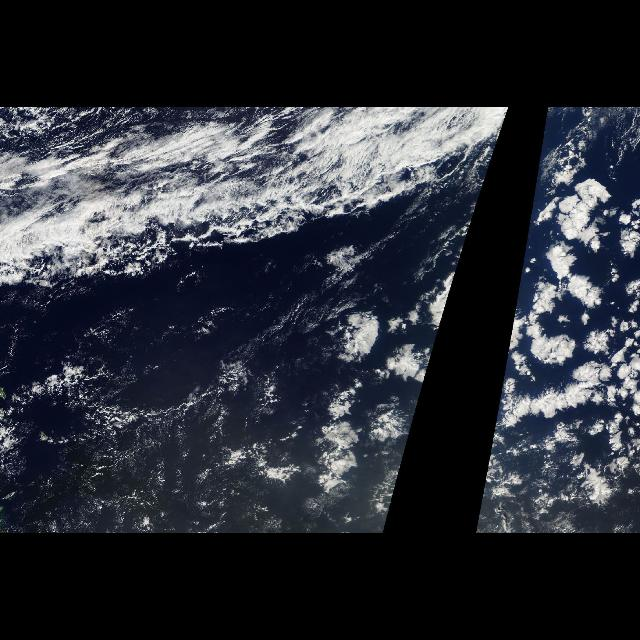Flower: (478, 226, 638, 514), (340, 226, 470, 514)
Sugar: (94, 338, 276, 528)
